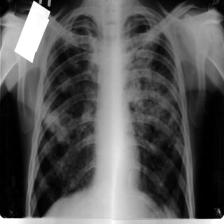tuberculosis: (28, 9, 194, 218)
